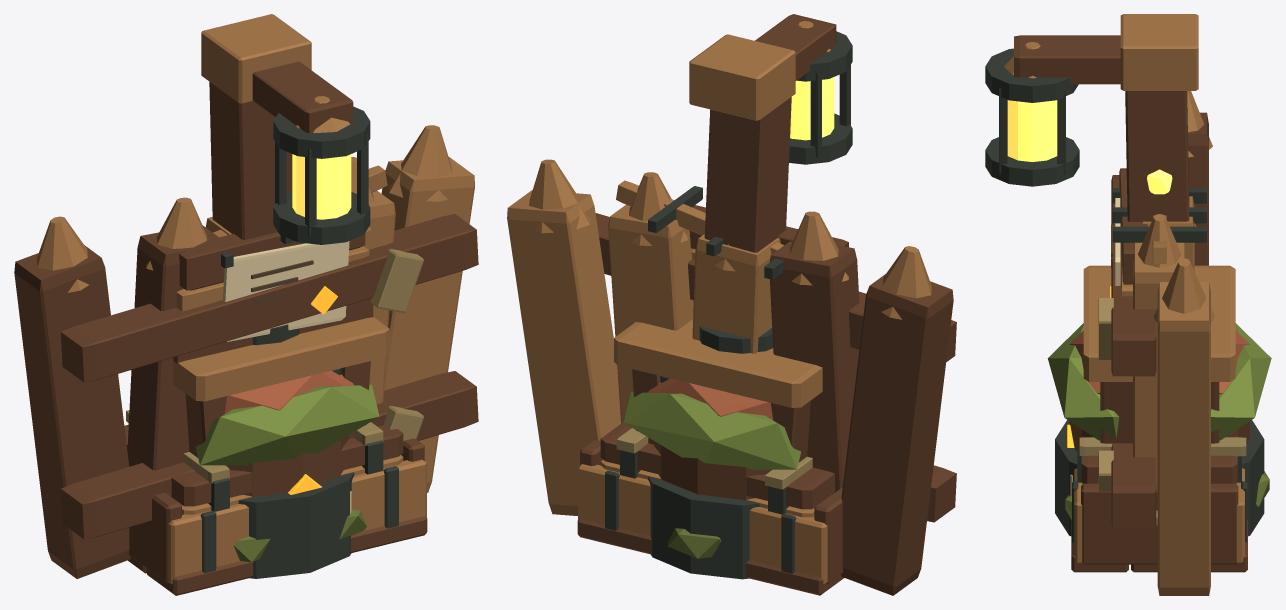
The model's file is expedition-kit.glb.
3 views of the same model, side by side, from view 1: azimuth 30°, elevation 25°; view 2: azimuth 150°, elevation 25°; view 3: azimuth 270°, elevation 25° (orthographic). The views are drawn at different scales.
Parts seen in each view (by area): view 1: GEO-Barricade, GEO-SignalPost, GEO-DefenseTrap, GEO-StockCrate, GEO-TrophyShelf, GEO-Cache, GEO-ForgeStump, GEO-ShedAntenna; view 2: GEO-Barricade, GEO-SignalPost, GEO-DefenseTrap, GEO-StockCrate, GEO-TrophyShelf, GEO-Cache, GEO-ForgeStump, GEO-ShedAntenna; view 3: GEO-Barricade, GEO-SignalPost, GEO-DefenseTrap, GEO-StockCrate, GEO-TrophyShelf, GEO-ShedAntenna, GEO-Cache, GEO-ForgeStump.
Boxes of the visible parts, x1,y1,x2,y2 form: GEO-Barricade: (14, 125, 478, 578); GEO-SignalPost: (173, 14, 373, 363); GEO-DefenseTrap: (195, 370, 379, 578); GEO-StockCrate: (128, 438, 427, 595); GEO-TrophyShelf: (173, 317, 389, 457); GEO-Cache: (124, 410, 403, 514); GEO-ForgeStump: (189, 435, 366, 562); GEO-ShedAntenna: (213, 165, 387, 268); GEO-Barricade: (507, 159, 956, 595); GEO-SignalPost: (689, 14, 852, 259); GEO-DefenseTrap: (623, 378, 800, 579); GEO-StockCrate: (577, 440, 843, 595); GEO-TrophyShelf: (614, 319, 822, 462); GEO-Cache: (600, 422, 834, 517); GEO-ForgeStump: (653, 440, 807, 558); GEO-ShedAntenna: (616, 180, 783, 279); GEO-Barricade: (1098, 91, 1214, 595); GEO-SignalPost: (985, 14, 1198, 297); GEO-DefenseTrap: (1047, 323, 1271, 536); GEO-StockCrate: (1070, 468, 1247, 572); GEO-TrophyShelf: (1083, 265, 1235, 443); GEO-ShedAntenna: (1112, 169, 1206, 263); GEO-Cache: (1067, 424, 1246, 484); GEO-ForgeStump: (1065, 421, 1269, 520).
Size of the model in its own units: 1.19 by 1.32 by 0.698.
